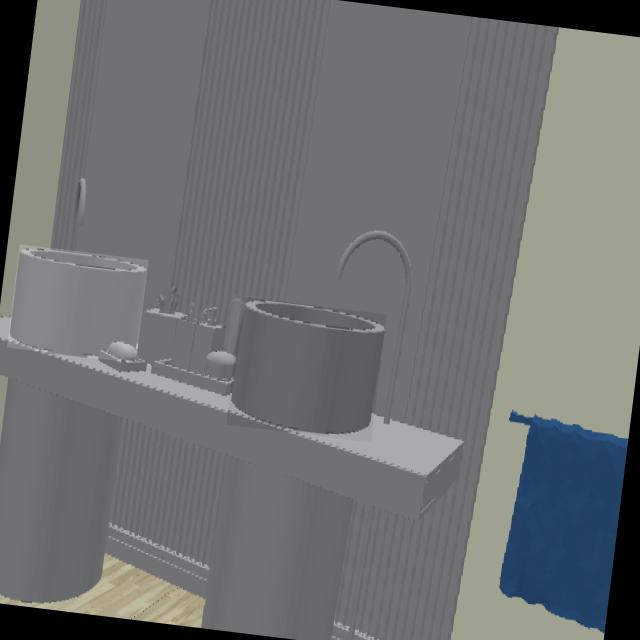washbasin: (228, 300, 385, 437), (8, 251, 147, 356)
